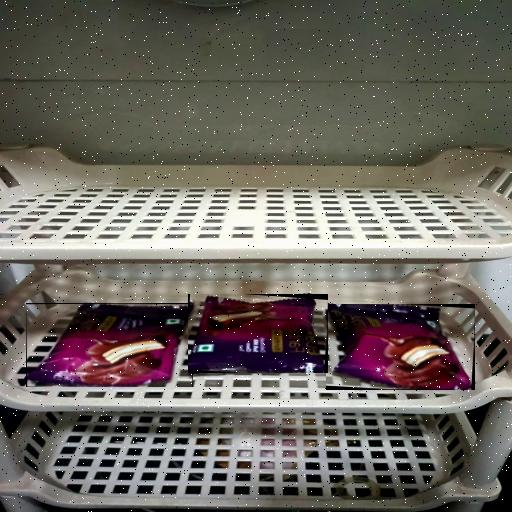Choco Pie: (26, 303, 193, 387), (326, 304, 475, 390), (188, 294, 328, 373)
